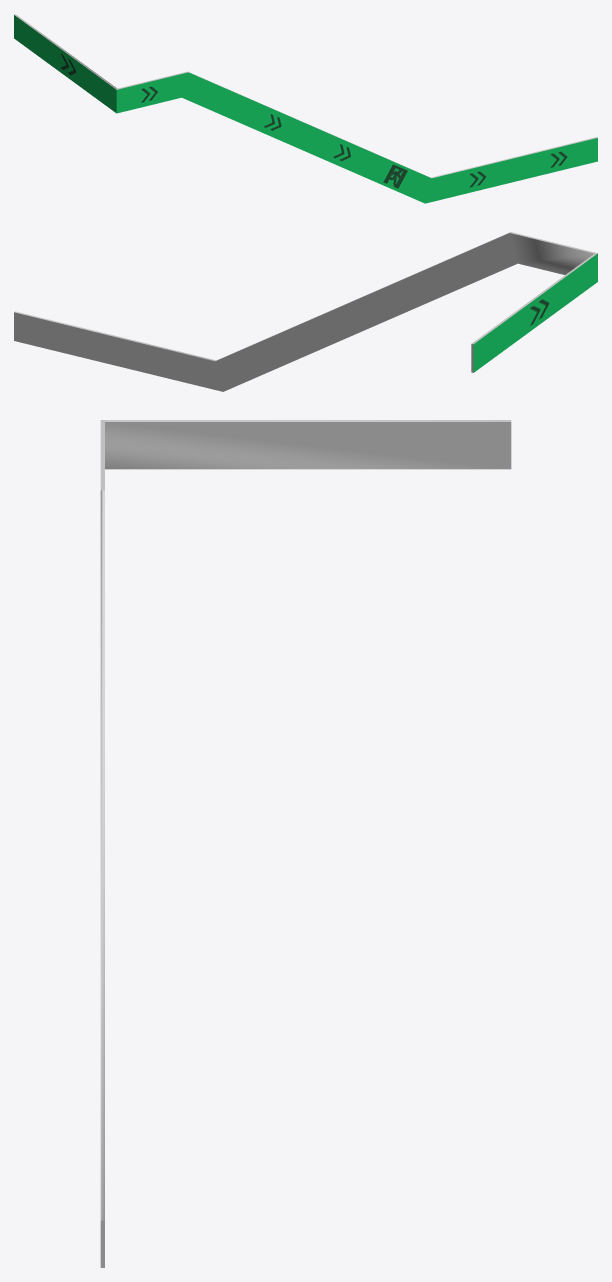
Rendered from Emergency_Kinder2.fbx.
3 views of the same model, one above another, from view 1: azimuth 30°, elevation 25°; view 2: azimuth 150°, elevation 25°; view 3: azimuth 270°, elevation 25° (orthographic). The views are drawn at different scales.
Parts seen in each view (by area): view 1: Emergency_Exit_Curve__1_; view 2: Emergency_Exit_Curve__1_; view 3: Emergency_Exit_Curve__1_.
Part boxes in pixels (x1,y1,x2,y2): Emergency_Exit_Curve__1_: [14, 14, 597, 203]; Emergency_Exit_Curve__1_: [14, 232, 597, 391]; Emergency_Exit_Curve__1_: [100, 420, 511, 1267].
Bounding box in the file's own units: 511 × 192 × 189.
